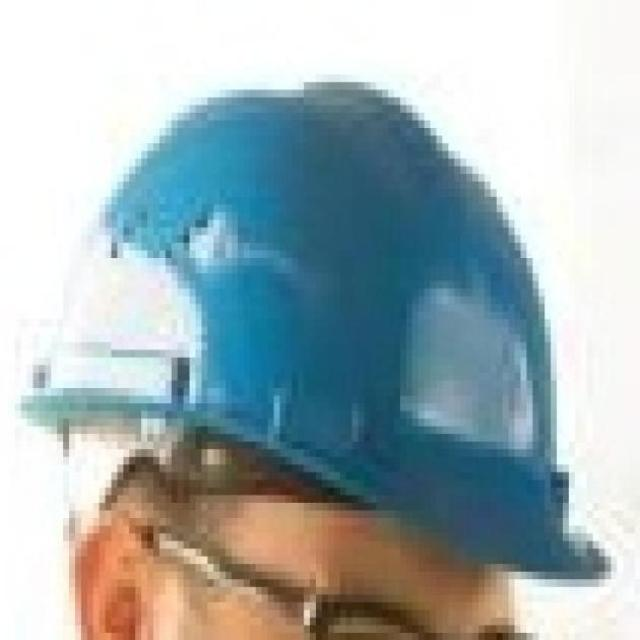blue helmet: (12, 67, 612, 590)
